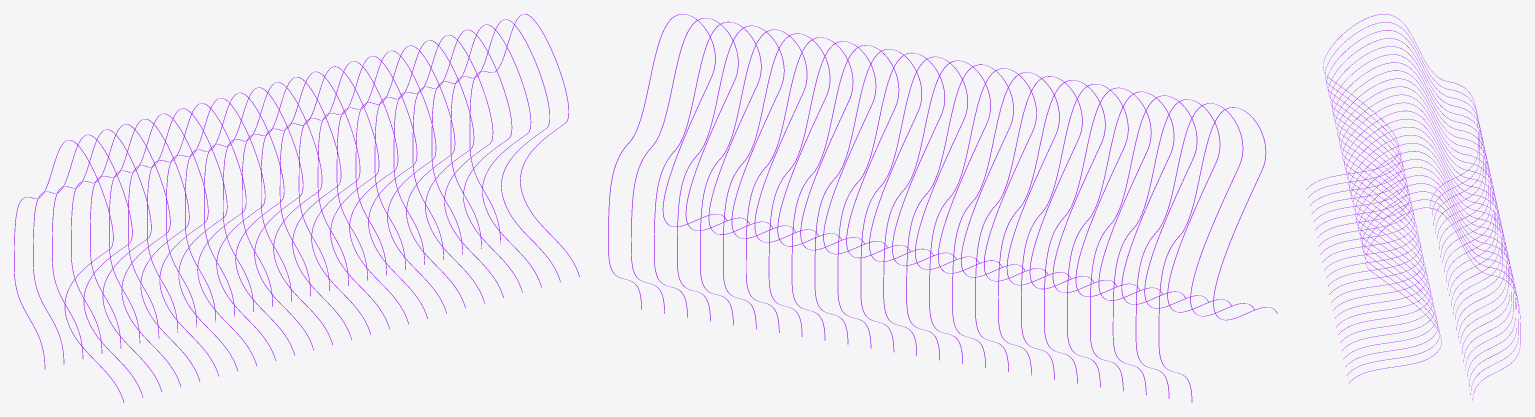
3 views of the same model, side by side, from view 1: azimuth 30°, elevation 25°; view 2: azimuth 150°, elevation 25°; view 3: azimuth 270°, elevation 25° (orthographic). The views are drawn at different scales.
Visible parts, largest first — view 1: BezierCurve; view 2: BezierCurve; view 3: BezierCurve.
Part boxes in pixels (<box>): BezierCurve: <box>14,14,579,402</box>; BezierCurve: <box>608,14,1277,402</box>; BezierCurve: <box>1306,14,1520,400</box>.
Bounding box in the file's own units: 10.38 × 5.36 × 5.09.
